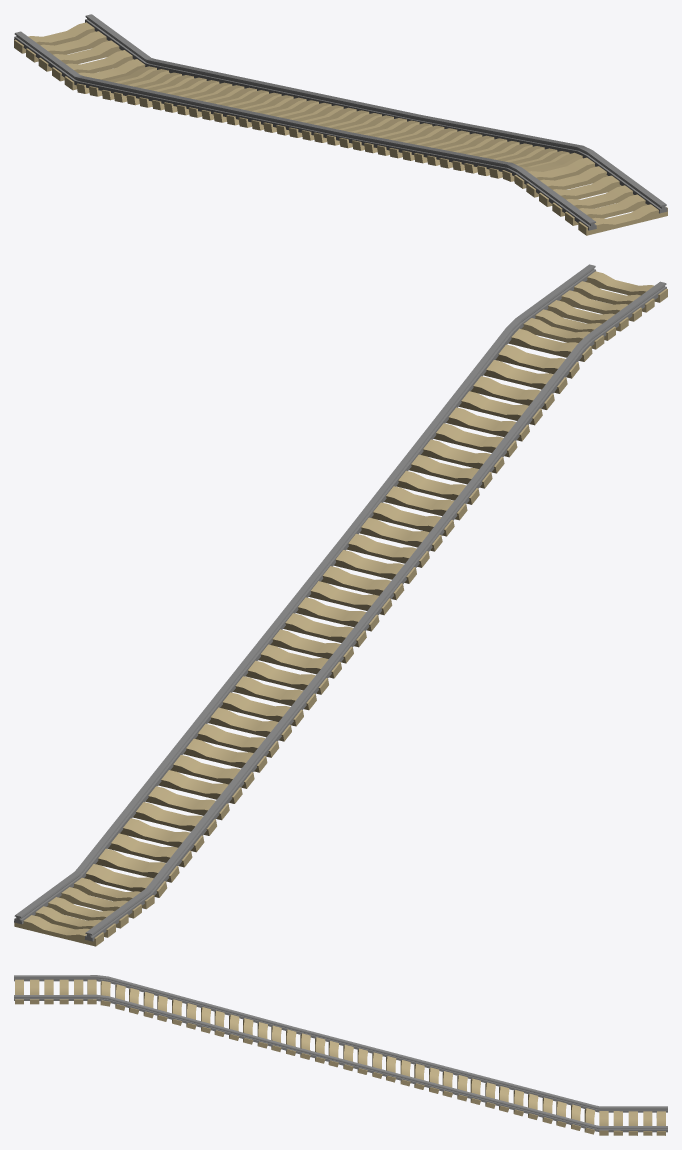
The model's file is down_railway.fbx.
The picture shows the model from 3 angles, top to bottom: view 1: azimuth 30°, elevation 25°; view 2: azimuth 150°, elevation 25°; view 3: azimuth 270°, elevation 25°; orthographic projection. The views are drawn at different scales.
Visible parts, largest first — view 1: down_railwayB, down_railwayA; view 2: down_railwayB, down_railwayA; view 3: down_railwayB, down_railwayA.
Boxes of the visible parts, left/top/right/bottom form: down_railwayB: left=14, top=22, right=667, bottom=235; down_railwayA: left=14, top=14, right=667, bottom=230; down_railwayB: left=14, top=271, right=667, bottom=946; down_railwayA: left=14, top=264, right=666, bottom=941; down_railwayB: left=15, top=979, right=665, bottom=1135; down_railwayA: left=14, top=975, right=667, bottom=1132.
Size of the model in its own units: 2.44 by 6.97 by 29.76.
